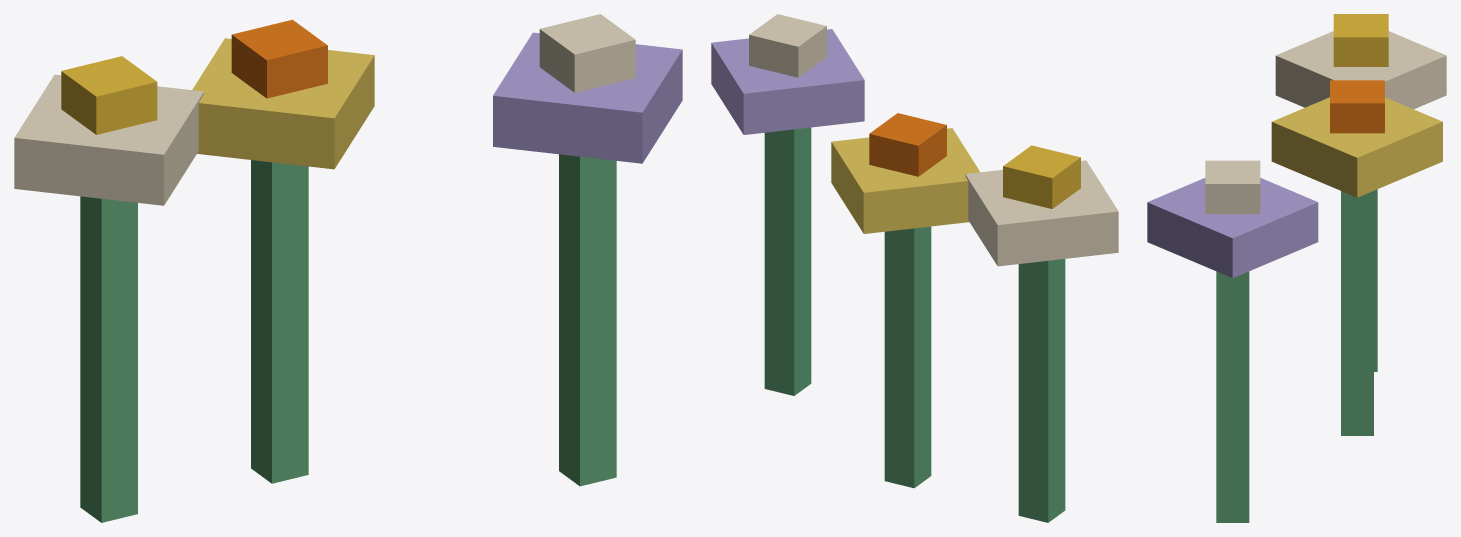
The model's file is flower-dots.glb.
3 renders of one model, left to right at view 1: azimuth 30°, elevation 25°; view 2: azimuth 150°, elevation 25°; view 3: azimuth 270°, elevation 25°, orthographic. The views are drawn at different scales.
Visible parts, largest first — view 1: flower-dots_body; view 2: flower-dots_body; view 3: flower-dots_body.
Part boxes in pixels (x1=…): flower-dots_body: x1=14, y1=14, x2=682, y2=522; flower-dots_body: x1=711, y1=14, x2=1118, y2=522; flower-dots_body: x1=1147, y1=14, x2=1446, y2=522.
Bounding box in the file's own units: 0.4804 × 0.3447 × 0.2723.
